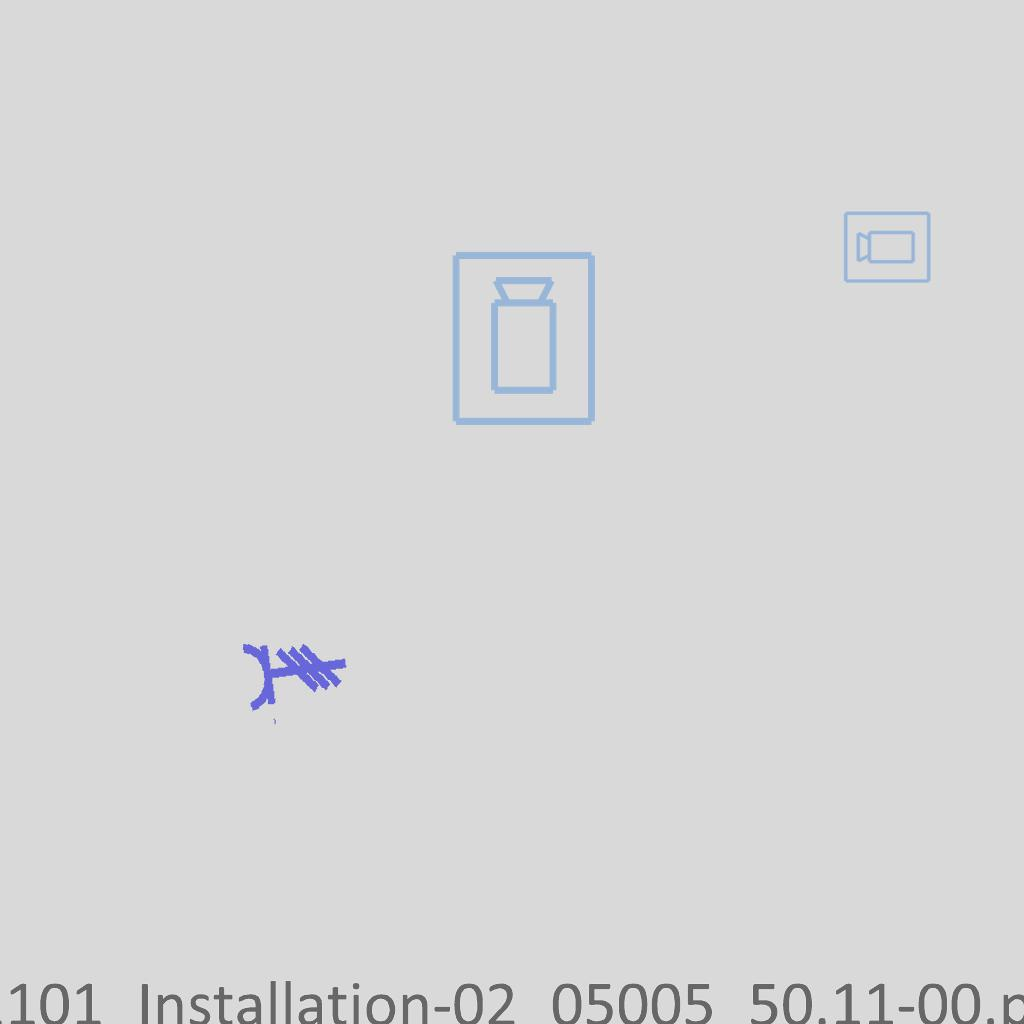CEE_Drehstrom_Steckdose_16_32_A: (239, 627, 355, 731)
KFO_Kamera_mit_Festobjektiv: (448, 248, 602, 430), (842, 208, 933, 285)
